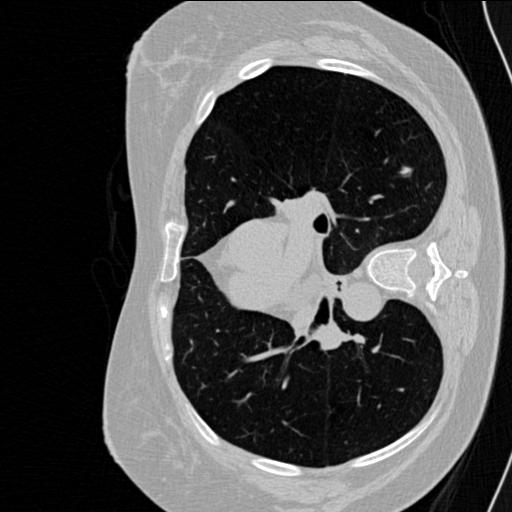nodule: (399, 163, 414, 178)
